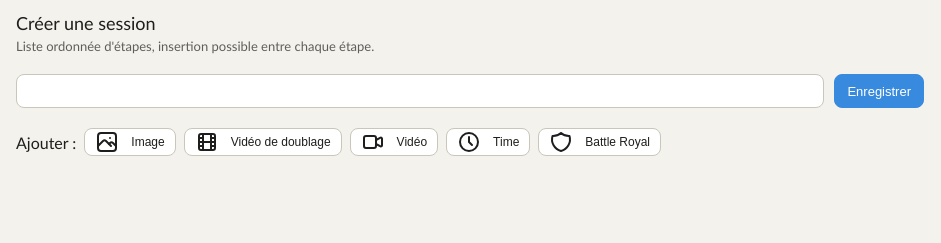
it: SessionCreationScreen - new session, local step list › deletes a step from the list
Click the button "Image": (130, 142) [84,128,176,156]
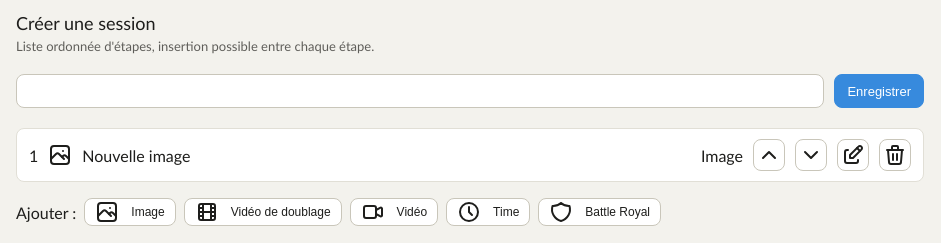
Now the text "Nouvelle image" is shown, box [82,146,190,164]
Click the button named "Supprimer l'étape": (895, 155) [879,139,911,171]
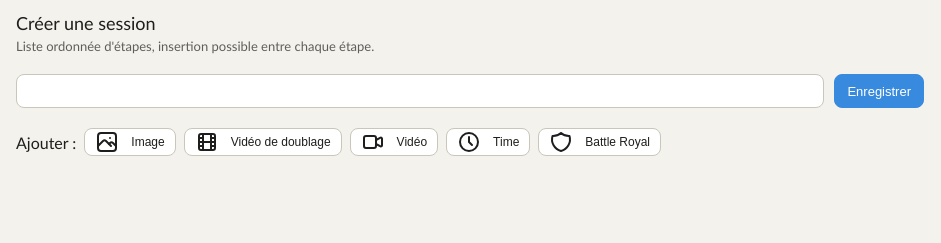
Now the text "Nouvelle image" is gone
